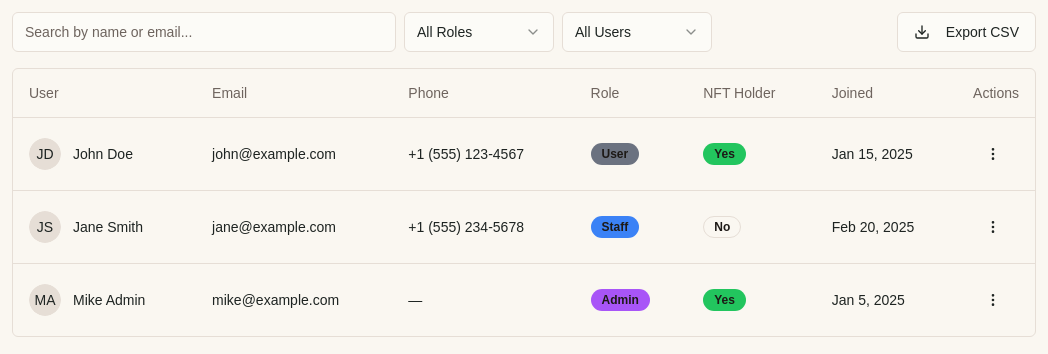
Test: UserTable › filters users by search query
Type "John" into the field with placeholder "Search by name or email...".
click(204, 32); type("John")  # box left=12, top=12, right=396, bottom=52
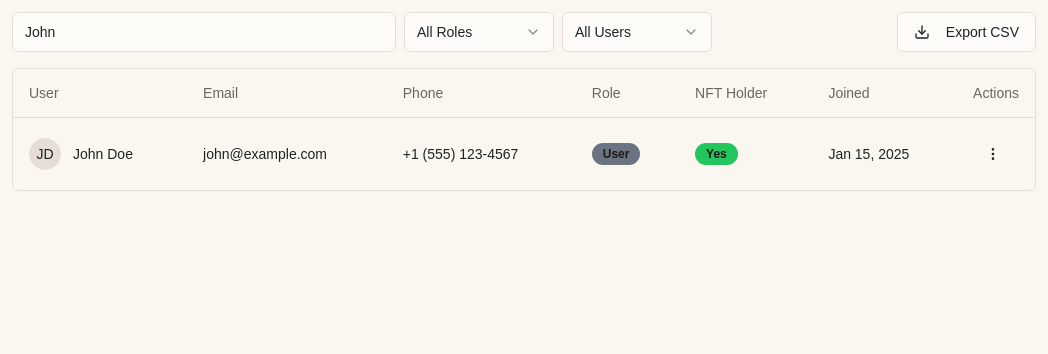
Expected: the text "John Doe" is shown, left=73, top=144, right=133, bottom=164
Expected: the text "Jane Smith" is gone
